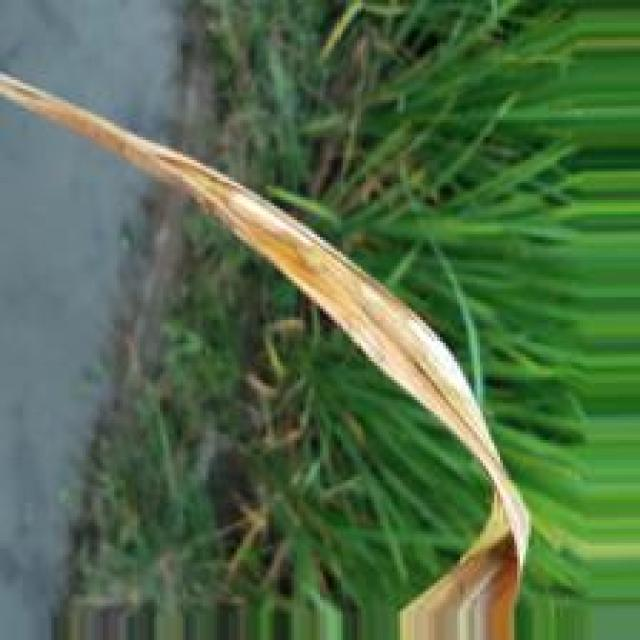Leaf_Scald: (0, 65, 539, 640)
